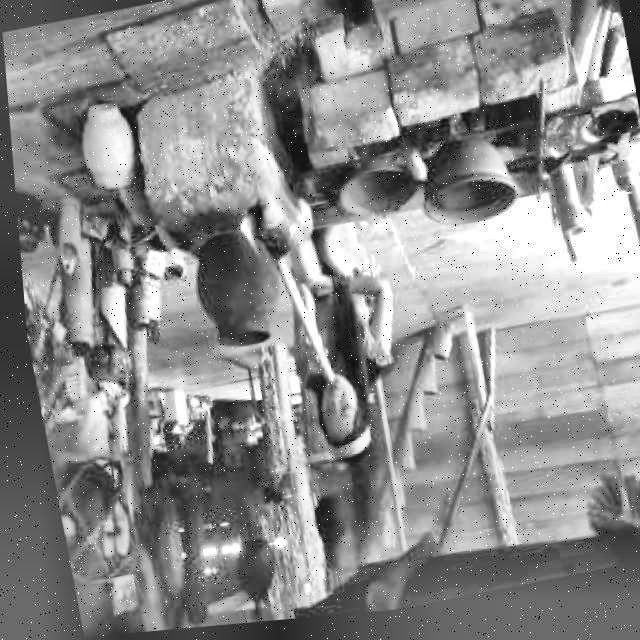Fire: (227, 215, 262, 270)
